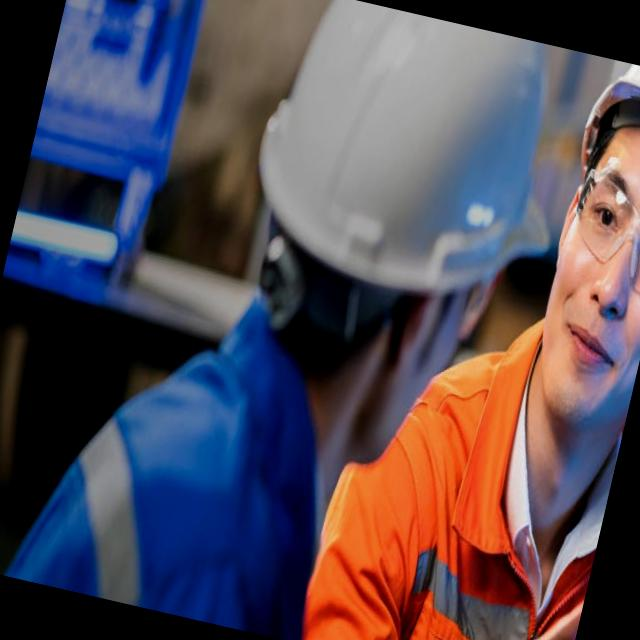goggles: (551, 160, 640, 306)
helmet: (565, 56, 640, 194)
vest: (291, 269, 640, 640)
